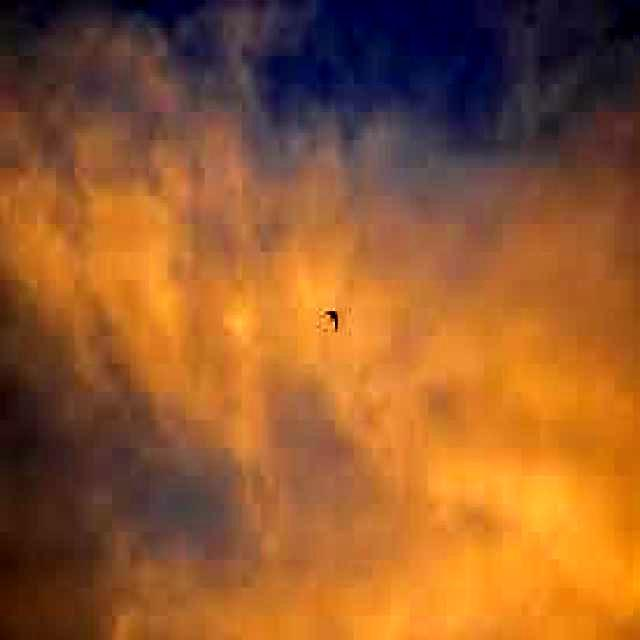bird: (320, 301, 342, 337)
